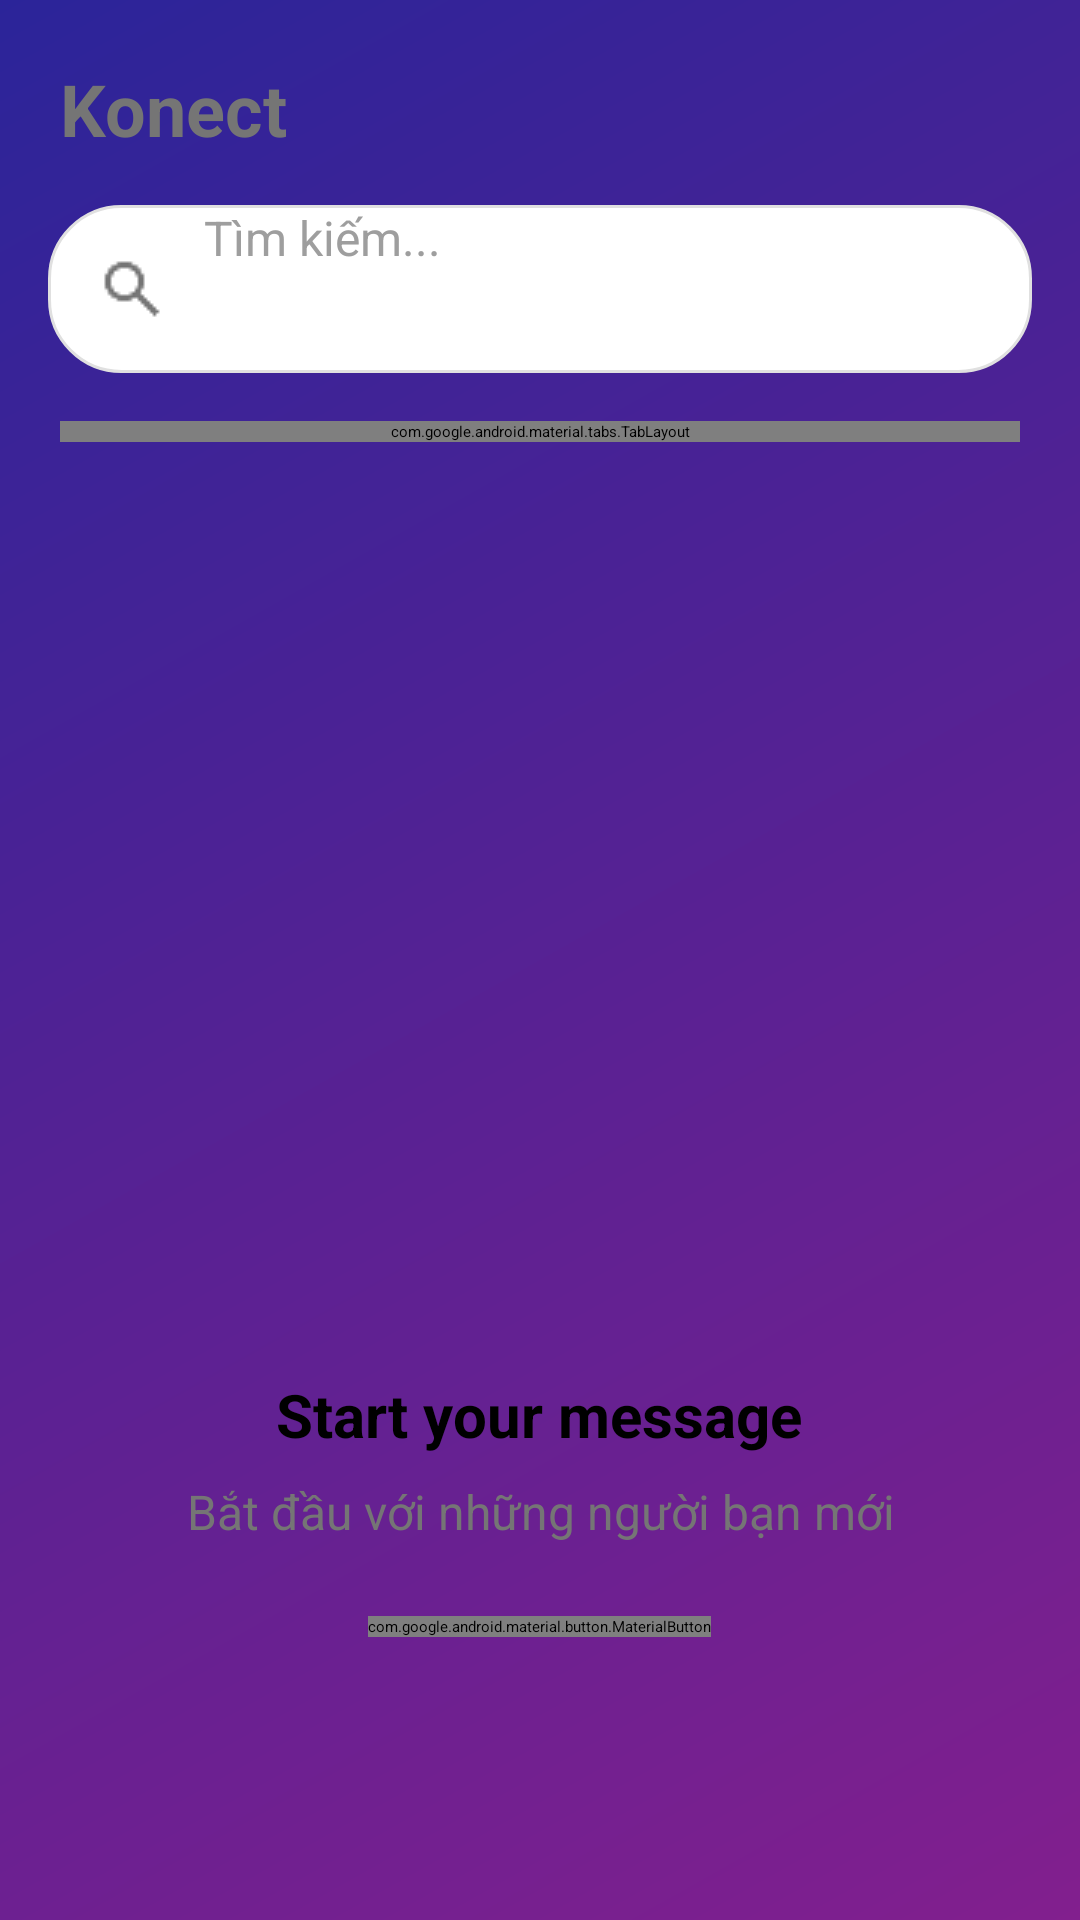

Named icons in this screenshot (1080w x 1920h) and their bounding boxes, bbox=(x1, y1, x2, y2):
Search icon: bbox=(104, 261, 160, 317)
